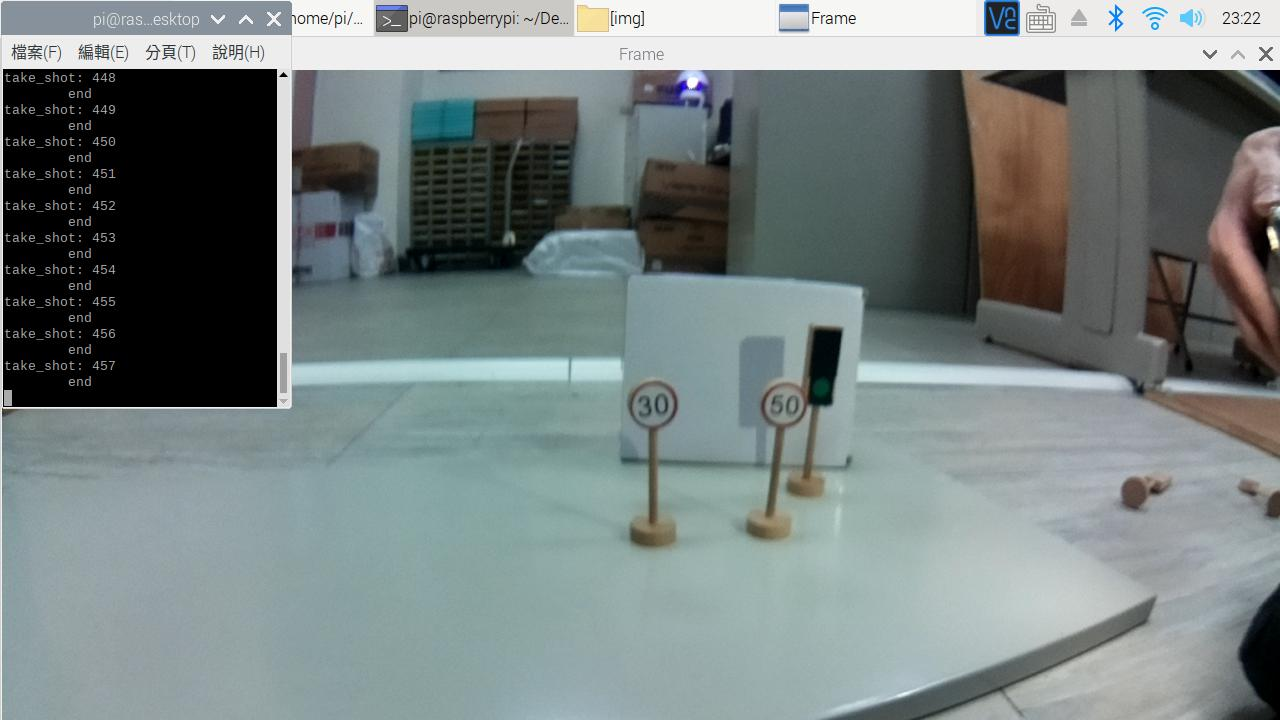Green: (804, 317, 848, 416)
Speed30: (617, 375, 695, 442)
Speed50: (756, 377, 807, 431)
